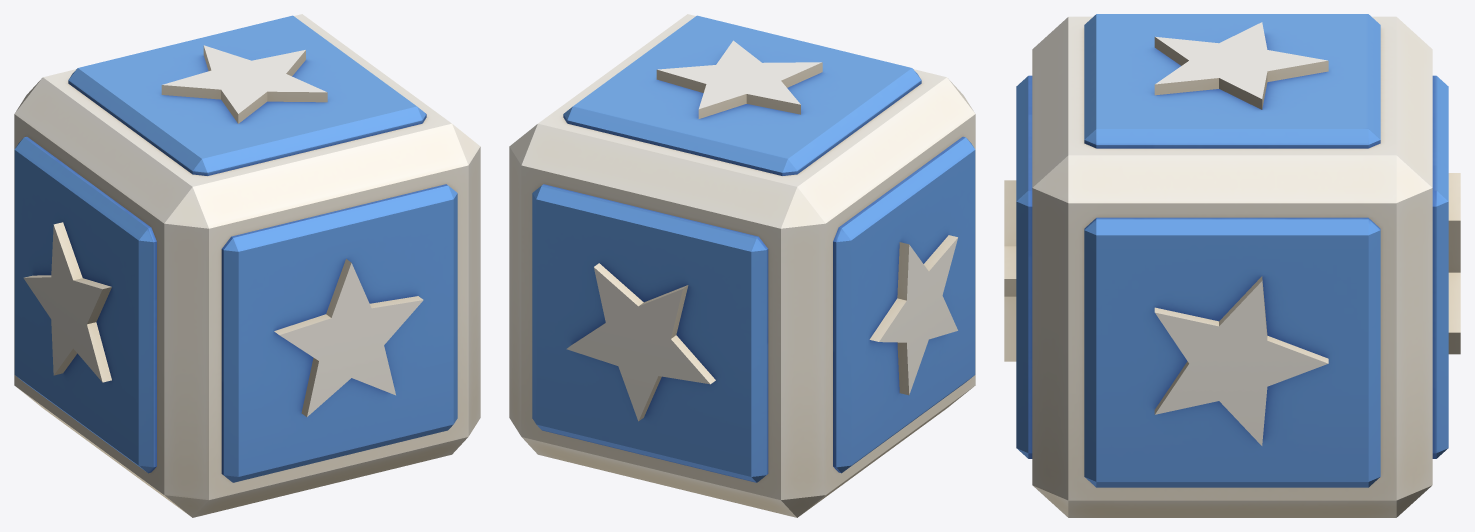
The model's file is toy_block_blue.glb.
3 renders of one model, left to right at view 1: azimuth 30°, elevation 25°; view 2: azimuth 150°, elevation 25°; view 3: azimuth 270°, elevation 25°, orthographic. The views are drawn at different scales.
Visible parts, largest first — view 1: prop; view 2: prop; view 3: prop.
Boxes of the visible parts, x1,y1,x2,y2 form: prop: [14, 14, 480, 517]; prop: [509, 14, 975, 517]; prop: [1004, 14, 1460, 517].
Bounding box in the file's own units: 1.14 × 1.07 × 1.14.
Materials: 1 (1 with a texture image).
